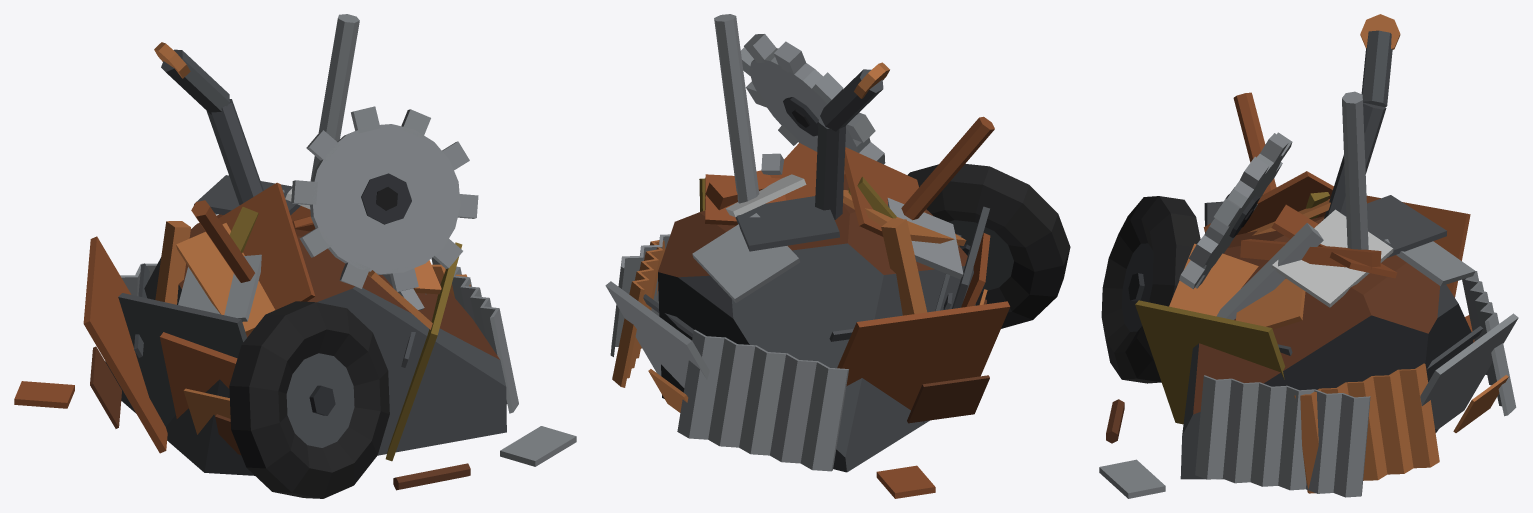
The model's file is scrap_pile_a.fbx.
3 views of the same model, side by side, from view 1: azimuth 30°, elevation 25°; view 2: azimuth 150°, elevation 25°; view 3: azimuth 270°, elevation 25° (orthographic). The views are drawn at different scales.
Visible parts, largest first — view 1: scrap_pile_a; view 2: scrap_pile_a; view 3: scrap_pile_a.
Boxes of the visible parts, x1,y1,x2,y2 form: scrap_pile_a: [14, 14, 576, 498]; scrap_pile_a: [605, 14, 1070, 498]; scrap_pile_a: [1099, 14, 1518, 498].
Bounding box in the file's own units: 1.26 × 1.14 × 1.22.
